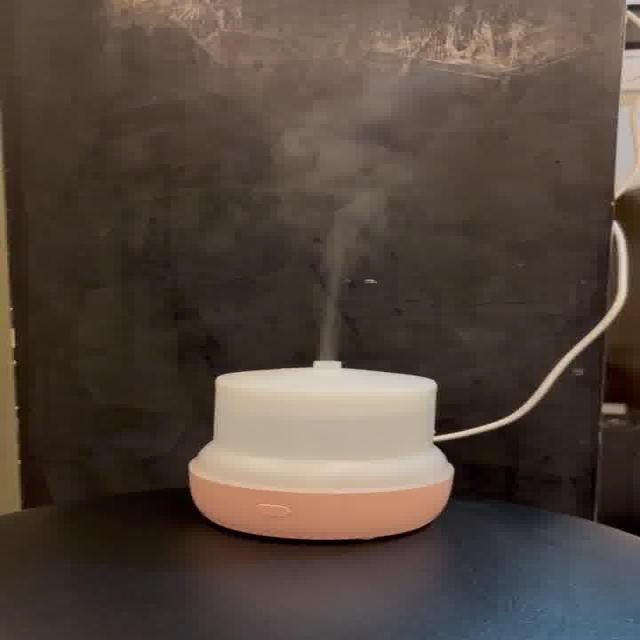fire: (270, 137, 418, 359)
